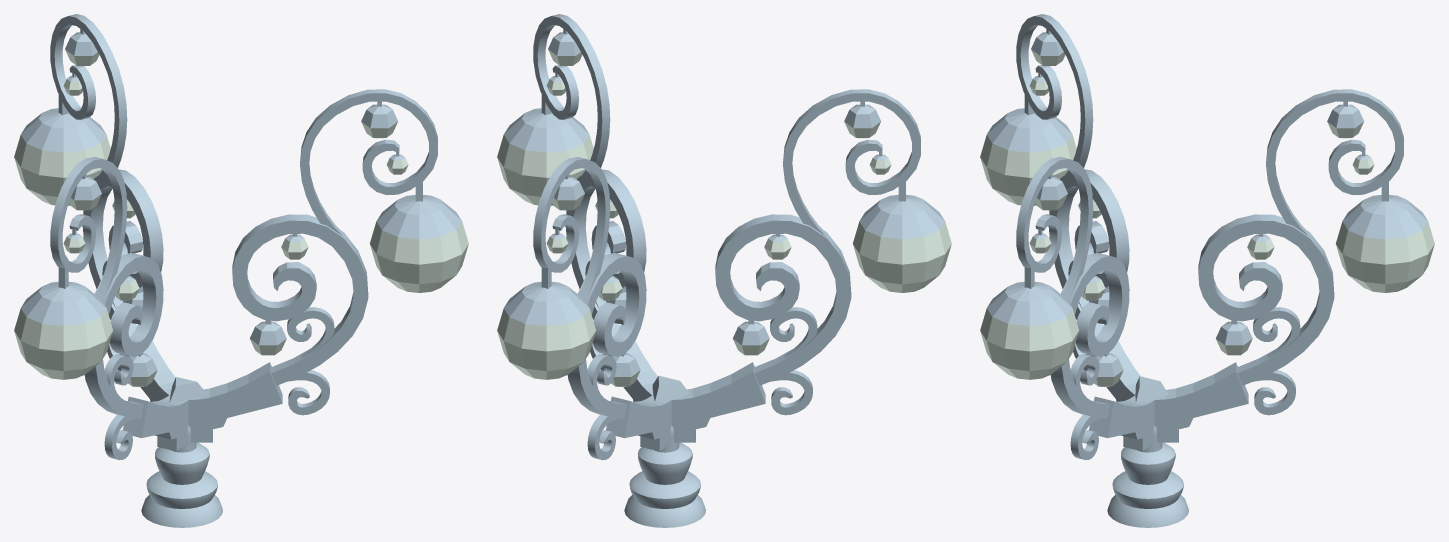
Rendered from streetlight_28.fbx.
3 views of the same model, side by side, from view 1: azimuth 30°, elevation 25°; view 2: azimuth 150°, elevation 25°; view 3: azimuth 270°, elevation 25° (orthographic).
Parts seen in each view (by area): view 1: pSphere35 (×3), pPlane28 (×3), pPlane27 (×3), streetlight_28, pPlane31, pSphere37 (×3), pPlane24, pPlane29 (×2), pPlane26 (×2), pSphere39 (×2), pPlane30, pCube28 (+1 smaller); view 2: pSphere35 (×3), pPlane28 (×3), pPlane27 (×3), streetlight_28, pPlane24, pSphere37 (×3), pPlane30, pPlane29 (×2), pPlane26 (×2), pSphere39 (×2), pPlane31, pCube28 (+1 smaller); view 3: pSphere35 (×3), pPlane28 (×3), pPlane27 (×3), streetlight_28, pPlane30, pSphere37 (×3), pPlane31, pPlane29 (×2), pPlane26 (×2), pSphere39 (×2), pPlane24, pCube28 (+1 smaller).
Boxes of the visible parts, left/top/right/bottom form: pSphere35 (×3): left=14, top=108, right=468, bottom=379; pPlane28 (×3): left=83, top=169, right=368, bottom=418; pPlane27 (×3): left=50, top=14, right=437, bottom=295; streetlight_28: left=141, top=426, right=222, bottom=527; pPlane31: left=188, top=362, right=282, bottom=442; pSphere37 (×3): left=65, top=32, right=397, bottom=210; pPlane24: left=123, top=394, right=188, bottom=451; pPlane29 (×2): left=104, top=370, right=329, bottom=460; pPlane26 (×2): left=104, top=307, right=334, bottom=399; pSphere39 (×2): left=120, top=321, right=286, bottom=386; pPlane30: left=125, top=336, right=175, bottom=401; pCube28: left=169, top=377, right=206, bottom=402; pSphere35 (×3): left=497, top=108, right=951, bottom=379; pPlane28 (×3): left=566, top=169, right=851, bottom=418; pPlane27 (×3): left=533, top=14, right=920, bottom=295; streetlight_28: left=624, top=426, right=705, bottom=527; pPlane24: left=670, top=362, right=765, bottom=442; pSphere37 (×3): left=548, top=32, right=880, bottom=210; pPlane30: left=606, top=395, right=671, bottom=451; pPlane29 (×2): left=587, top=370, right=812, bottom=460; pPlane26 (×2): left=587, top=307, right=817, bottom=399; pSphere39 (×2): left=603, top=321, right=769, bottom=386; pPlane31: left=608, top=336, right=657, bottom=401; pCube28: left=652, top=375, right=689, bottom=401; pSphere35 (×3): left=980, top=108, right=1434, bottom=379; pPlane28 (×3): left=1049, top=169, right=1334, bottom=418; pPlane27 (×3): left=1016, top=14, right=1403, bottom=295; streetlight_28: left=1107, top=426, right=1188, bottom=527; pPlane30: left=1153, top=362, right=1248, bottom=442; pSphere37 (×3): left=1031, top=32, right=1363, bottom=210; pPlane31: left=1089, top=395, right=1155, bottom=451; pPlane29 (×2): left=1070, top=370, right=1295, bottom=460; pPlane26 (×2): left=1070, top=307, right=1300, bottom=399; pSphere39 (×2): left=1086, top=321, right=1252, bottom=386; pPlane24: left=1091, top=336, right=1140, bottom=401; pCube28: left=1135, top=376, right=1168, bottom=402.
Bounding box in the file's own units: 7.14 × 6.48 × 6.37.
